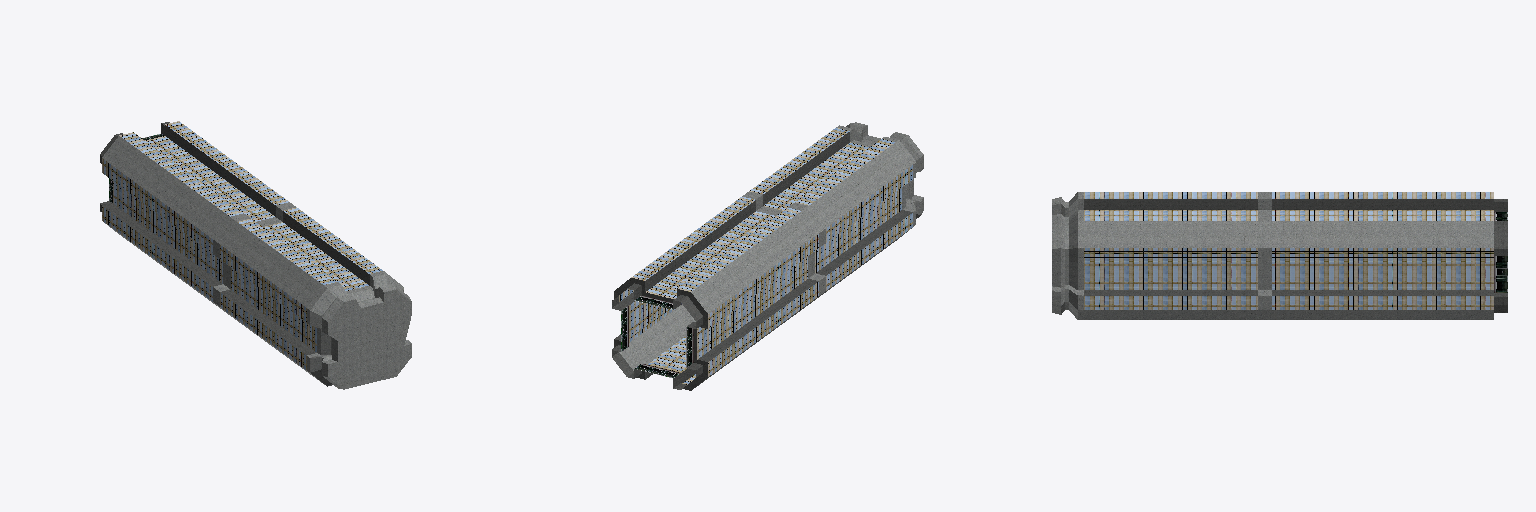
3 renders of one model, left to right at view 1: azimuth 30°, elevation 25°; view 2: azimuth 150°, elevation 25°; view 3: azimuth 270°, elevation 25°, orthographic.
Parts seen in each view (by area): view 1: Object08; view 2: Object08; view 3: Object08.
Boxes of the visible parts, box(x1,y1,x2,y2) form: Object08: box(100, 121, 411, 389); Object08: box(612, 122, 923, 390); Object08: box(1052, 192, 1507, 319).
Bounding box in the file's own units: 44.68 × 44.68 × 187.
Materials: 4 (4 with a texture image).